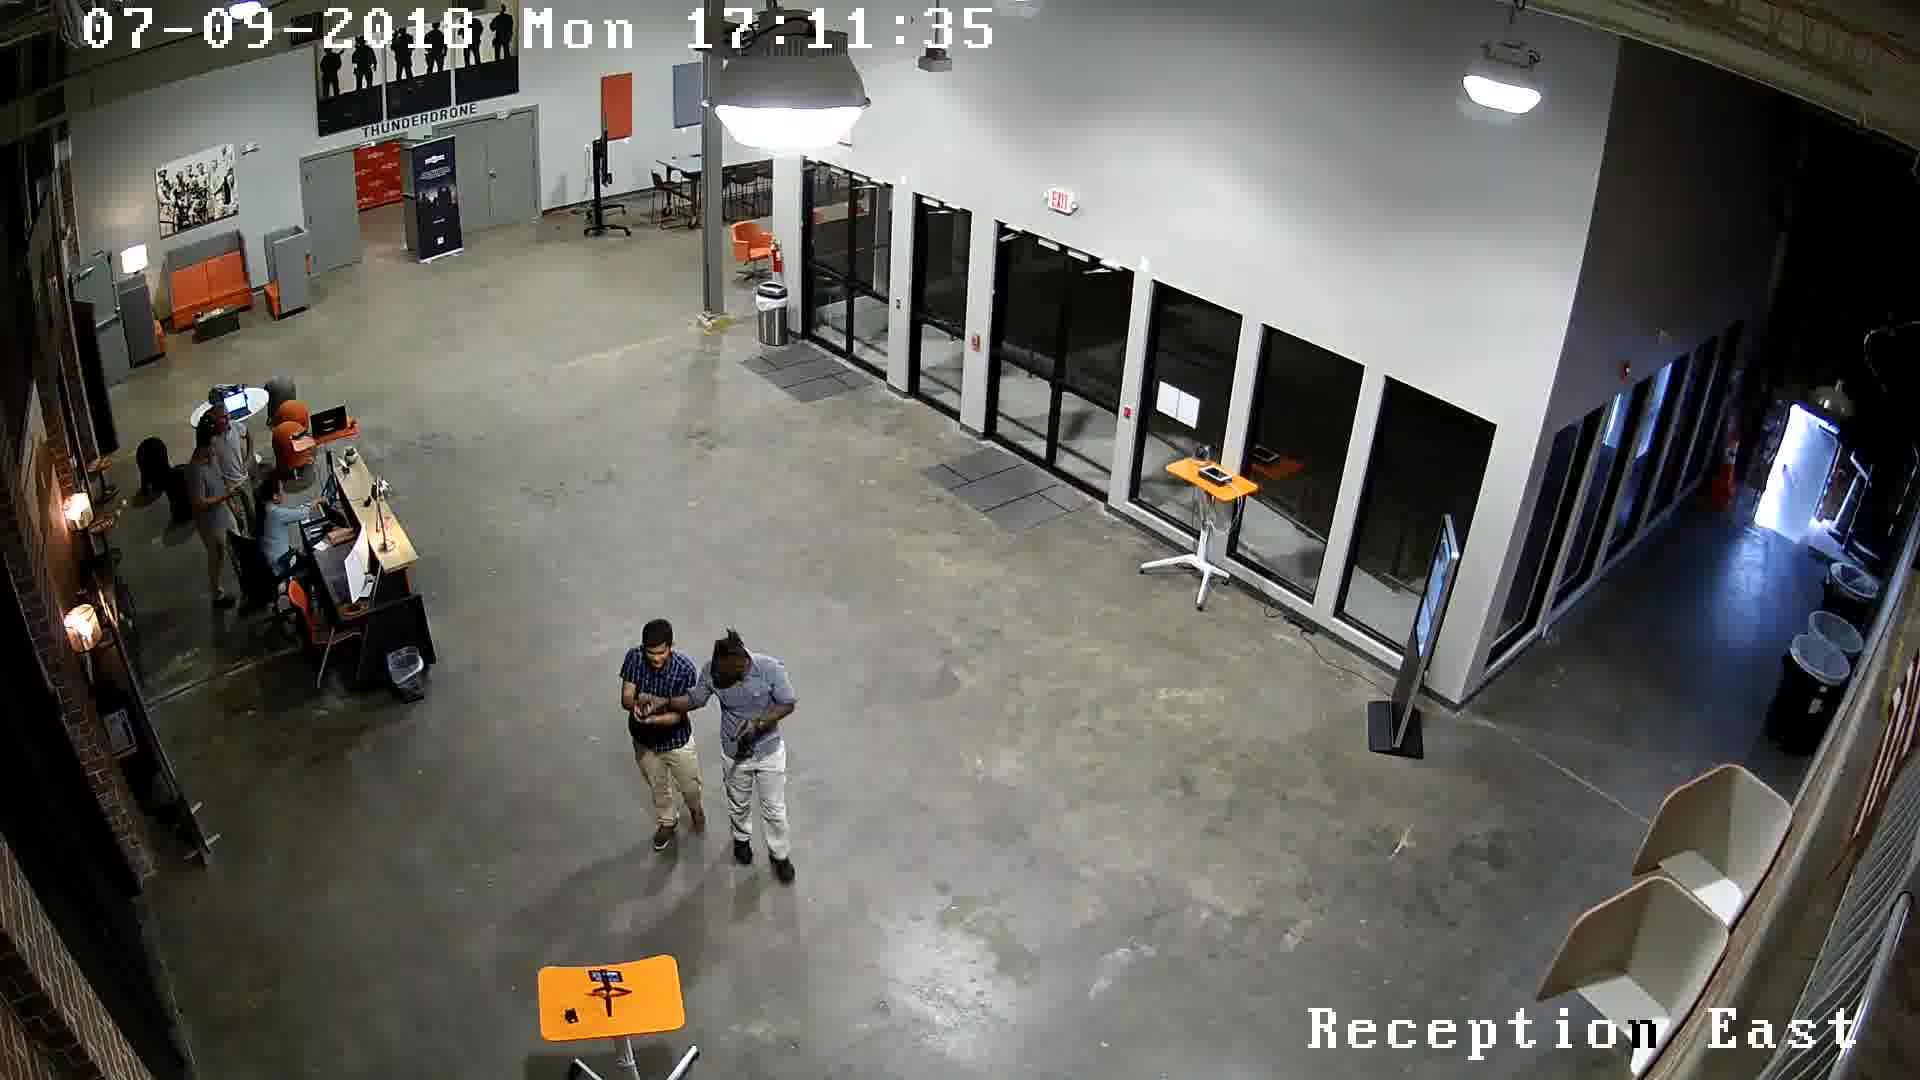pistol: (716, 711, 764, 760), (622, 694, 659, 737)
